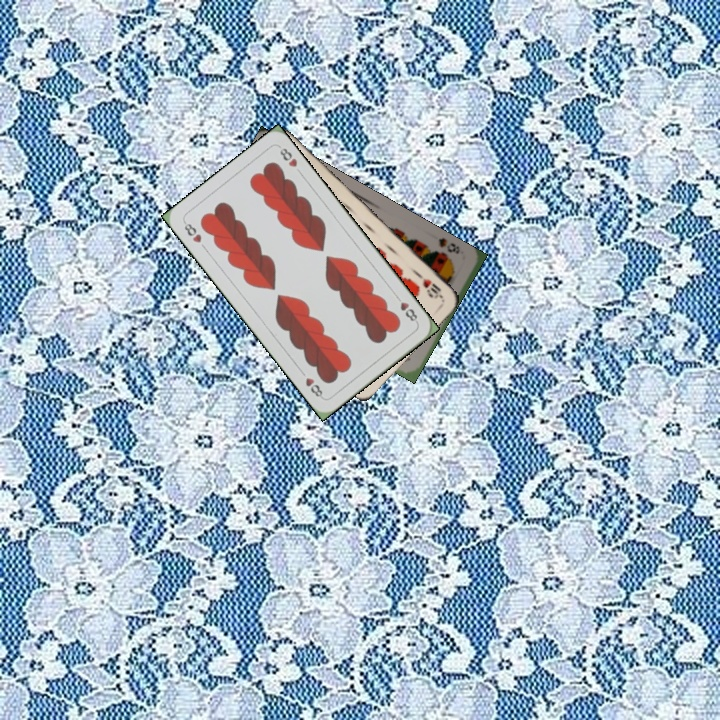H10: (412, 268, 445, 301)
H8: (391, 291, 420, 326), (179, 217, 204, 245)
S8: (434, 233, 462, 256)
